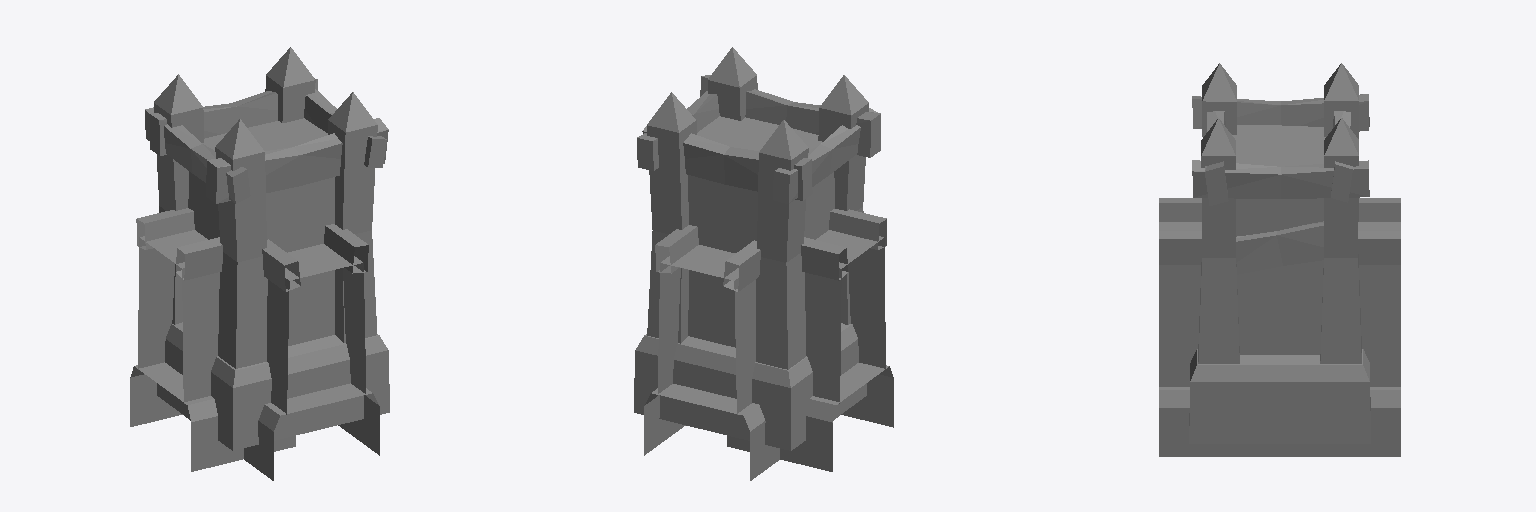
The model's file is WoodWall_B.obj.
3 renders of one model, left to right at view 1: azimuth 30°, elevation 25°; view 2: azimuth 150°, elevation 25°; view 3: azimuth 270°, elevation 25°, orthographic.
Visible parts, largest first — view 1: Wall_B_Mesh.007; view 2: Wall_B_Mesh.007; view 3: Wall_B_Mesh.007.
Boxes of the visible parts, x1=… form: Wall_B_Mesh.007: x1=130, y1=47, x2=389, y2=480; Wall_B_Mesh.007: x1=634, y1=47, x2=893, y2=480; Wall_B_Mesh.007: x1=1159, y1=63, x2=1400, y2=456.
Size of the model in its own units: 3.62 by 6.21 by 4.